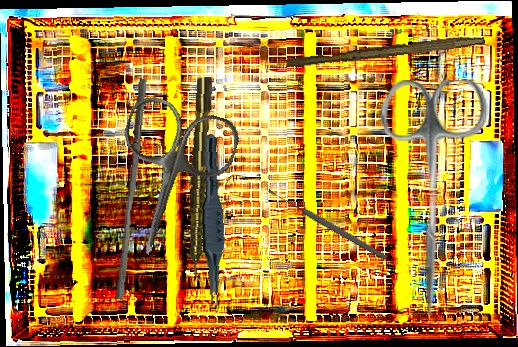Handpiece: (184, 76, 215, 283)
Iris Scissors: (92, 91, 244, 271), (379, 80, 488, 316)
Pusher: (114, 77, 148, 301)
Scalpel Handle: (285, 30, 486, 72)
Surgical Spoon: (267, 186, 388, 262)
Tissue Forceps: (194, 133, 230, 314)
